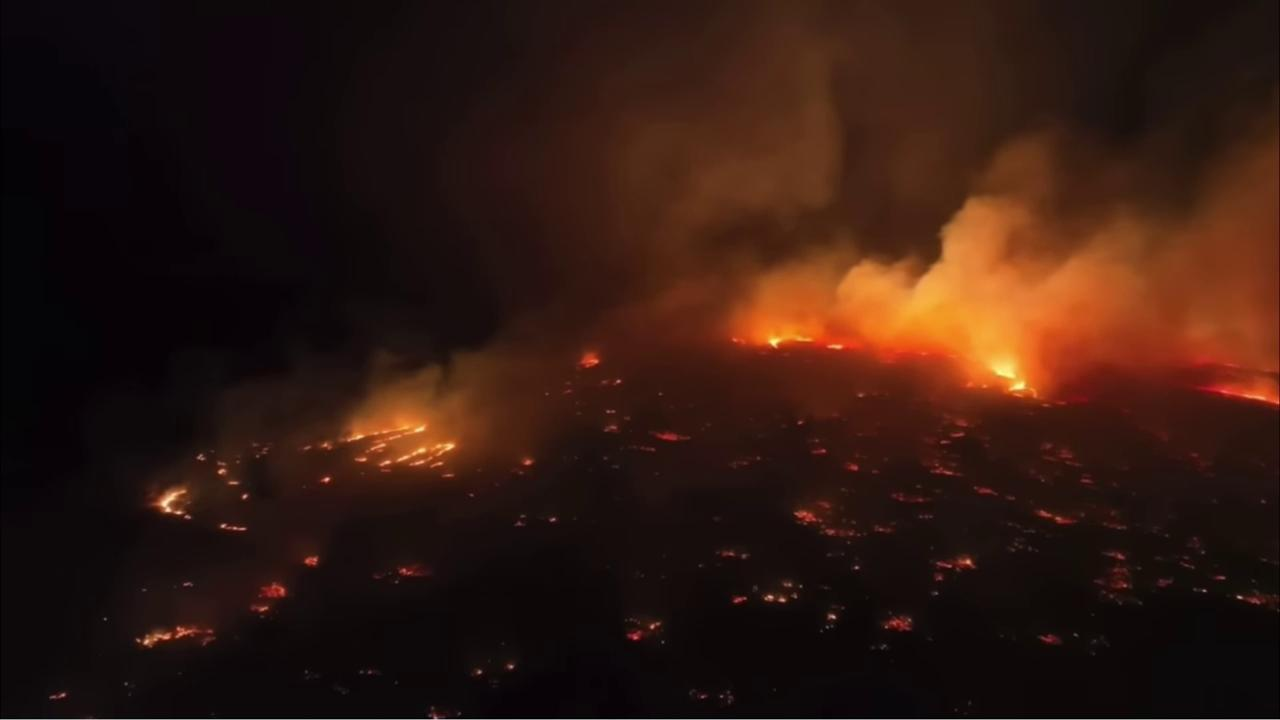fire: (300, 422, 460, 488), (1190, 376, 1280, 409), (132, 621, 218, 655), (1091, 547, 1137, 608), (793, 497, 860, 538), (995, 362, 1041, 401), (149, 485, 195, 521), (247, 579, 288, 619), (929, 552, 981, 580), (1233, 587, 1280, 616), (1037, 441, 1085, 468), (623, 614, 665, 643), (1032, 507, 1085, 527), (764, 332, 816, 351), (911, 347, 969, 360), (889, 490, 938, 505), (644, 427, 693, 442), (879, 613, 915, 632), (926, 460, 965, 477), (395, 563, 434, 579), (935, 430, 970, 446), (716, 545, 753, 560), (421, 706, 463, 719), (972, 485, 1001, 501), (1038, 630, 1063, 648), (579, 352, 601, 371), (219, 521, 248, 535), (962, 378, 991, 392), (760, 593, 788, 606), (300, 553, 320, 570), (1152, 574, 1174, 588), (45, 691, 69, 703), (216, 458, 231, 477), (1076, 472, 1096, 486), (873, 524, 898, 535), (948, 416, 971, 427), (728, 594, 749, 606), (729, 335, 750, 347), (809, 446, 829, 458), (600, 376, 624, 386), (518, 454, 536, 467), (824, 342, 846, 352), (601, 421, 619, 433), (845, 461, 860, 475), (472, 666, 487, 678), (851, 562, 864, 574), (195, 452, 208, 463), (694, 691, 707, 702), (825, 610, 838, 621), (506, 662, 518, 672), (546, 515, 558, 525), (781, 580, 794, 589), (226, 480, 242, 487), (605, 407, 617, 415), (242, 492, 251, 501)
smoke: (79, 0, 1280, 709)
